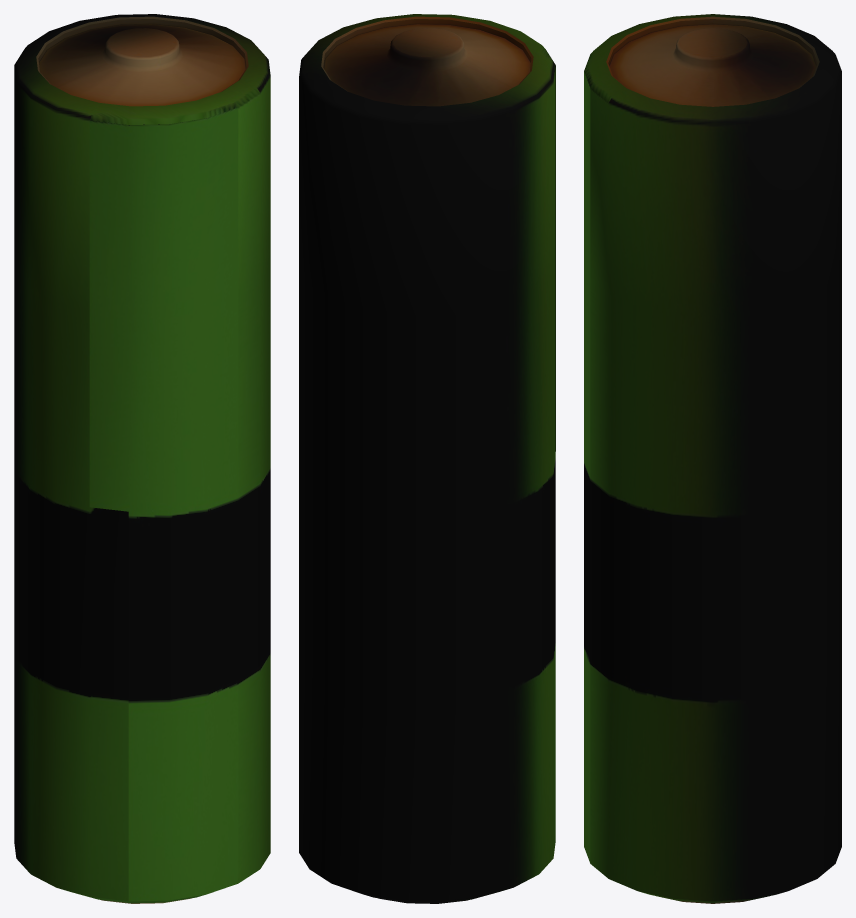
The model's file is battery_sam_v-2.gltf.
3 renders of one model, left to right at view 1: azimuth 30°, elevation 25°; view 2: azimuth 150°, elevation 25°; view 3: azimuth 270°, elevation 25°, orthographic.
Parts seen in each view (by area): view 1: battery; view 2: battery; view 3: battery.
Part boxes in pixels (left/top/right/bottom): battery: left=14, top=14, right=270, bottom=903; battery: left=299, top=14, right=555, bottom=903; battery: left=584, top=14, right=841, bottom=903.
Bounding box in the file's own units: 1.8 × 6.32 × 1.8.
Materials: 1 (1 with a texture image).
